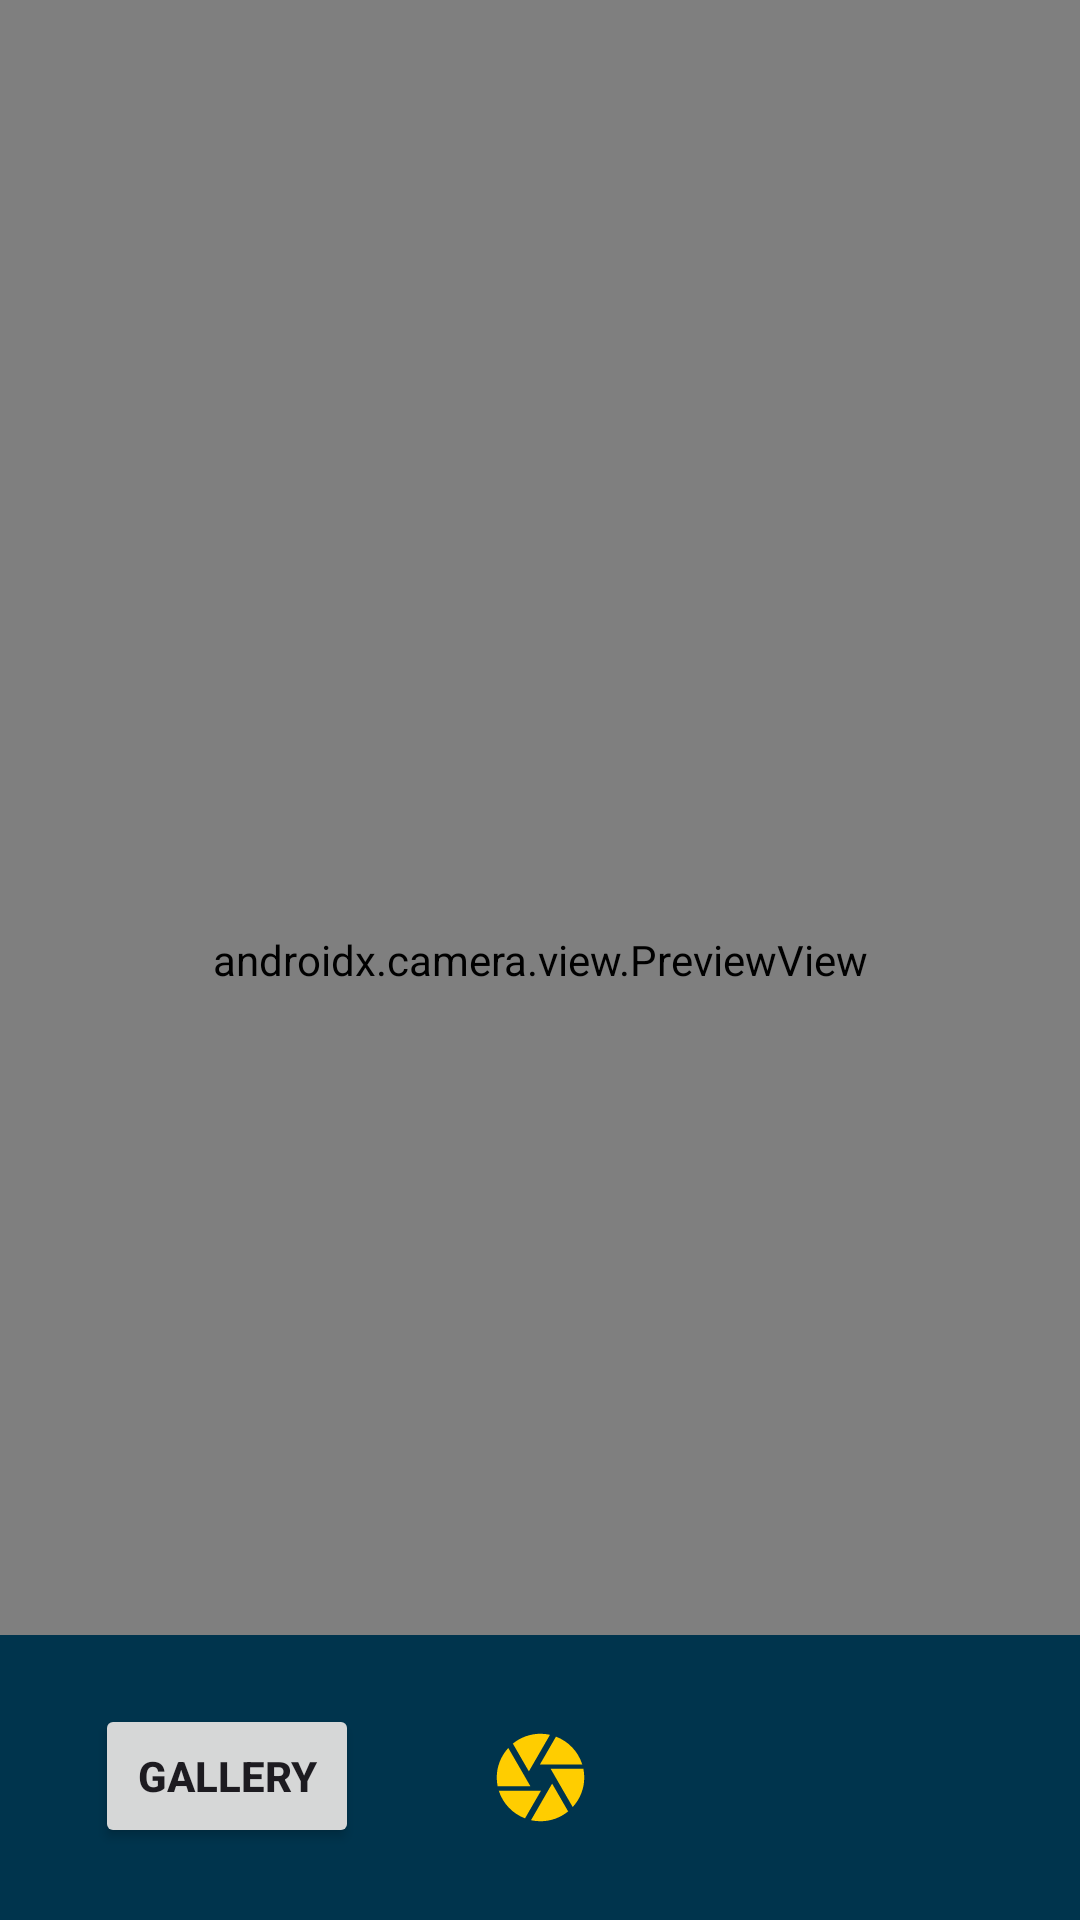

Icon bounding boxes for this 1080px x 1920px phone screenshot, format {"x1": x1, "y1": y1, "x2": x2, "y2": y2}:
capture: {"x1": 496, "y1": 1733, "x2": 585, "y2": 1822}
